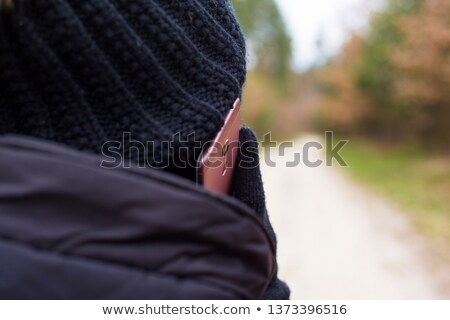phone: (193, 104, 266, 222)
